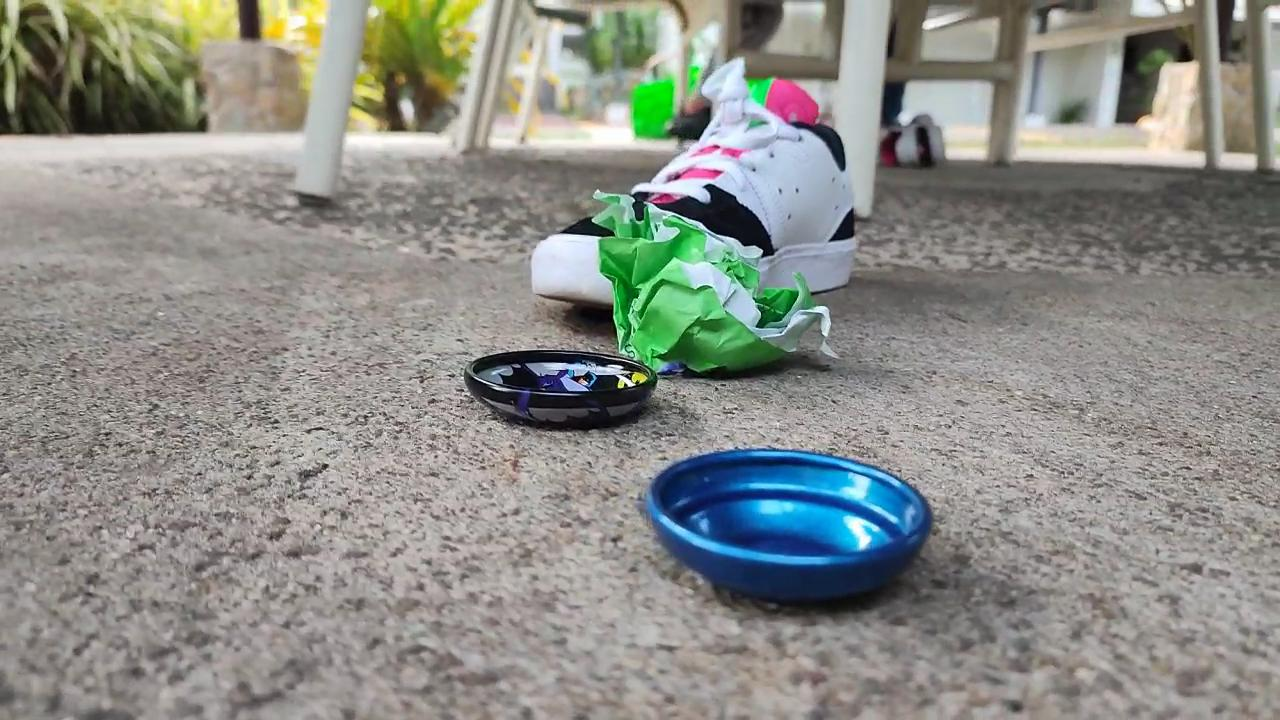Paper: (571, 161, 848, 400)
